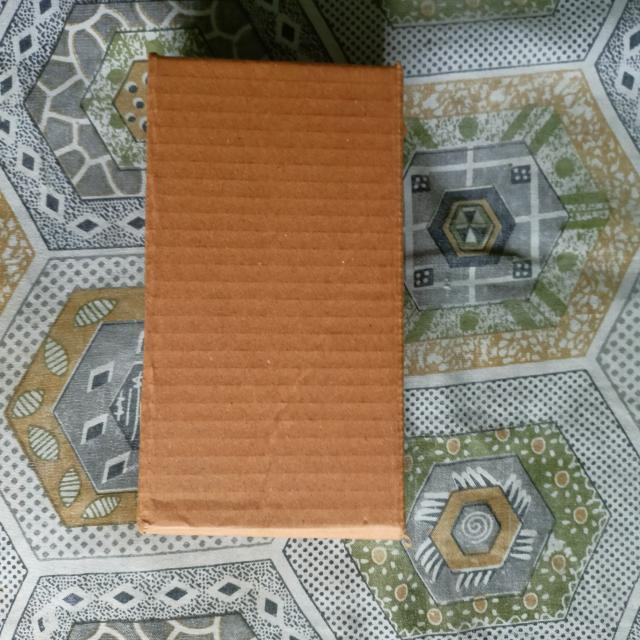box: (135, 55, 409, 544)
